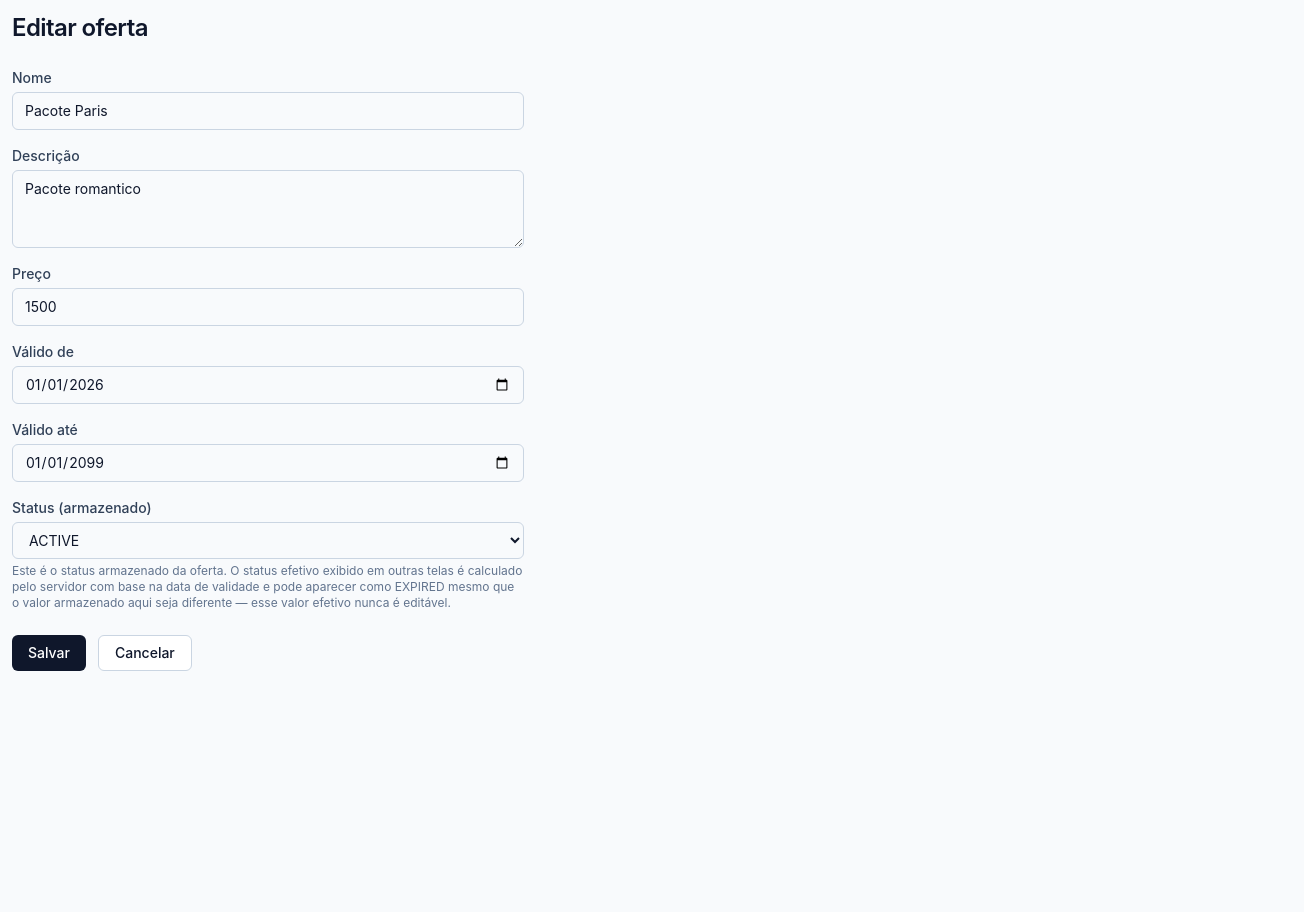
Test: OfferEditPage › success navigates to /offers/:id
Expected: the field labelled "Nome" is shown, [12,92,524,130]
Step 1. Click the button "Salvar" → (49,653), box [12,635,86,671]
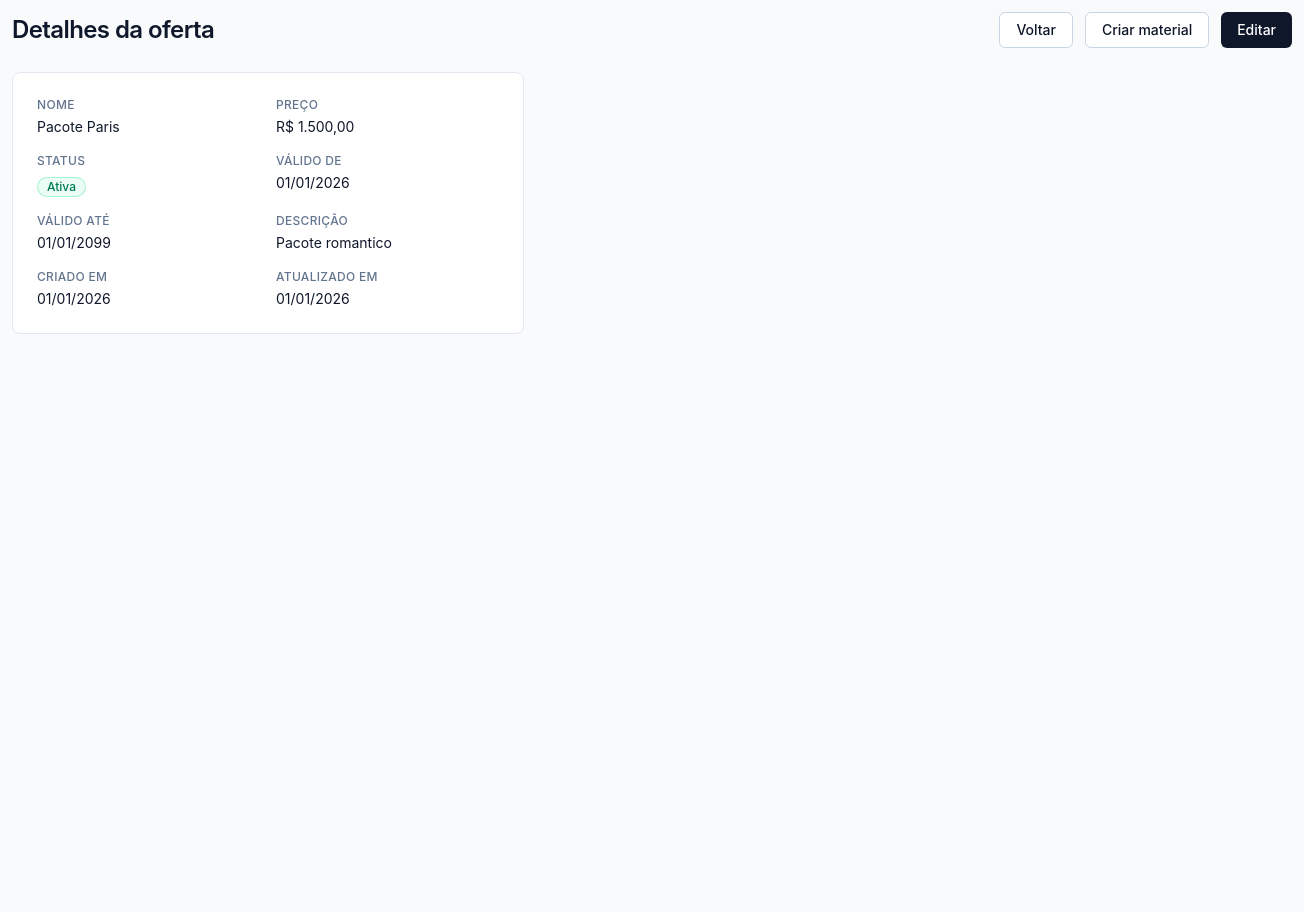
Result: the heading "Detalhes da oferta" is shown at [12,14,214,46]
